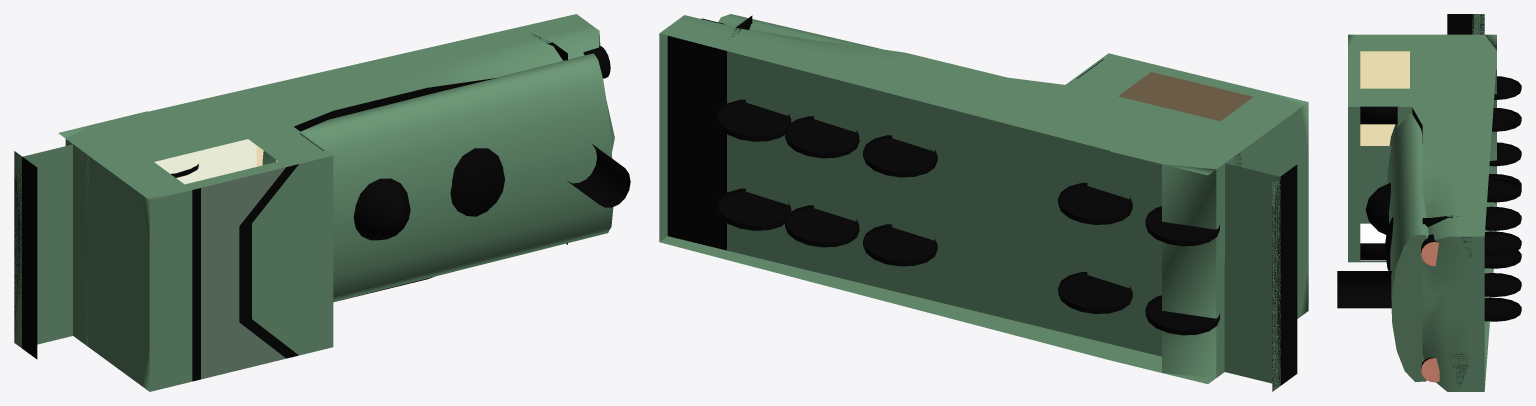
The model's file is asset1.glb.
3 views of the same model, side by side, from view 1: azimuth 30°, elevation 25°; view 2: azimuth 150°, elevation 25°; view 3: azimuth 270°, elevation 25° (orthographic). The views are drawn at different scales.
Visible parts, largest first — view 1: Cube1_sep47, Cube1_sep30, Cube1_sep32, Cube1_sep33, Cube1_sep38, Cube1_sep31; view 2: Cube1_sep47, Cube1, Cube1_sep38, Cube1_sep42, Cube1_sep41, Cube1_sep34, Cube1_sep43, Cube1_sep35, Cube1_sep44, Cube1_sep39, Cube1_sep40, Cube1_sep36 (+2 smaller); view 3: Cube1_sep47, Cube1_sep30, Cube1_sep38, Cube1_sep31, Cube1_sep33, Cube1_sep40, Cube1_sep39, Cube1_sep42, Cube1_sep41, Cube20_copy21, Cube1_sep34, Cube1_sep43 (+9 smaller).
Boxes of the visible parts, left/top/right/bottom form: Cube1_sep47: left=14, top=14, right=614, bottom=391; Cube1_sep30: left=262, top=53, right=613, bottom=301; Cube1_sep32: left=450, top=148, right=504, bottom=216; Cube1_sep33: left=353, top=178, right=410, bottom=240; Cube1_sep38: left=154, top=139, right=277, bottom=184; Cube1_sep31: left=567, top=143, right=630, bottom=207; Cube1_sep47: left=659, top=15, right=1308, bottom=391; Cube1: left=667, top=15, right=752, bottom=250; Cube1_sep38: left=1118, top=72, right=1253, bottom=121; Cube1_sep42: left=785, top=205, right=859, bottom=247; Cube1_sep41: left=785, top=116, right=859, bottom=158; Cube1_sep34: left=863, top=135, right=937, bottom=177; Cube1_sep43: left=1058, top=182, right=1132, bottom=224; Cube1_sep35: left=863, top=224, right=937, bottom=266; Cube1_sep44: left=1058, top=272, right=1132, bottom=313; Cube1_sep39: left=717, top=99, right=791, bottom=141; Cube1_sep40: left=717, top=188, right=791, bottom=230; Cube1_sep36: left=1145, top=206, right=1219, bottom=246; Cube1_sep47: left=1348, top=14, right=1496, bottom=391; Cube1_sep30: left=1387, top=113, right=1428, bottom=381; Cube1_sep38: left=1360, top=51, right=1409, bottom=260; Cube1_sep31: left=1337, top=271, right=1392, bottom=308; Cube1_sep33: left=1365, top=182, right=1390, bottom=234; Cube1_sep40: left=1484, top=297, right=1521, bottom=321; Cube1_sep39: left=1484, top=231, right=1521, bottom=255; Cube1_sep42: left=1484, top=273, right=1521, bottom=296; Cube1_sep41: left=1485, top=206, right=1521, bottom=230; Cube20_copy21: left=1359, top=106, right=1398, bottom=124; Cube1_sep34: left=1487, top=178, right=1521, bottom=202; Cube1_sep43: left=1492, top=107, right=1521, bottom=131.
Size of the model in its own units: 1 by 0.3265 by 0.35.
